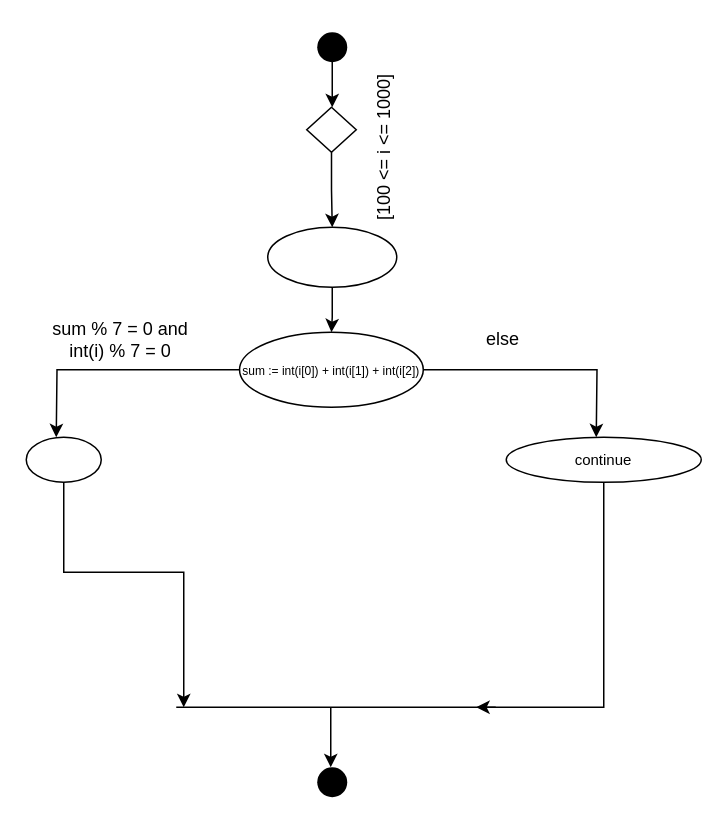
Some shapes in this 728 by 828 pixel diagram are drawn without their labels. Here are the shapes that lost their labels. From the top down, the box of each, then its label:
(266, 226, 397, 287): i = str(i)
(25, 436, 101, 482): print(i)
